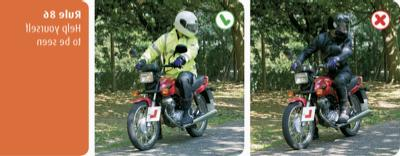With Helmet: (326, 10, 353, 39), (173, 8, 201, 35)
